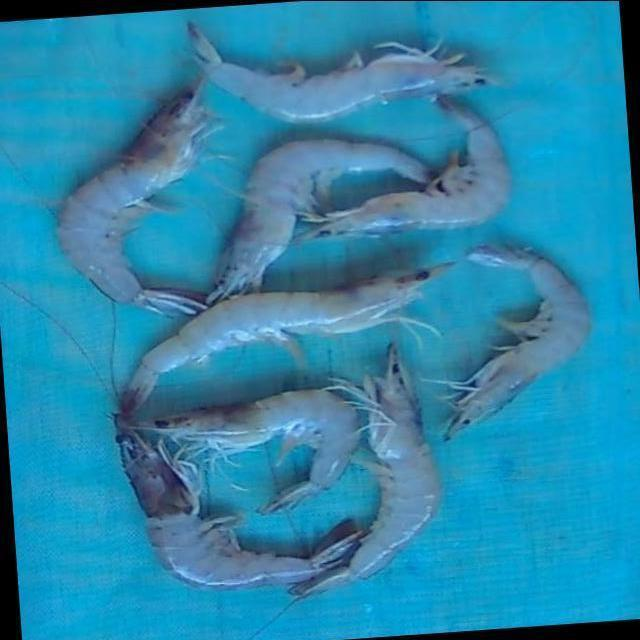shrimp: (120, 263, 451, 416), (114, 416, 362, 590), (290, 344, 441, 598), (206, 138, 431, 304), (57, 82, 208, 315), (295, 95, 511, 240), (187, 23, 487, 121), (134, 389, 363, 516), (444, 245, 591, 440)
